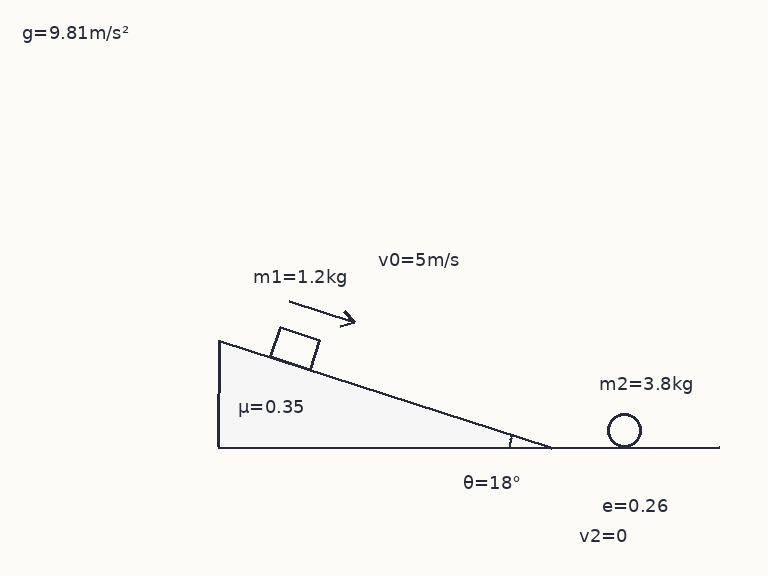ball: (605, 411, 643, 449)
block: (268, 325, 321, 371)
ramp: (217, 337, 552, 449)
